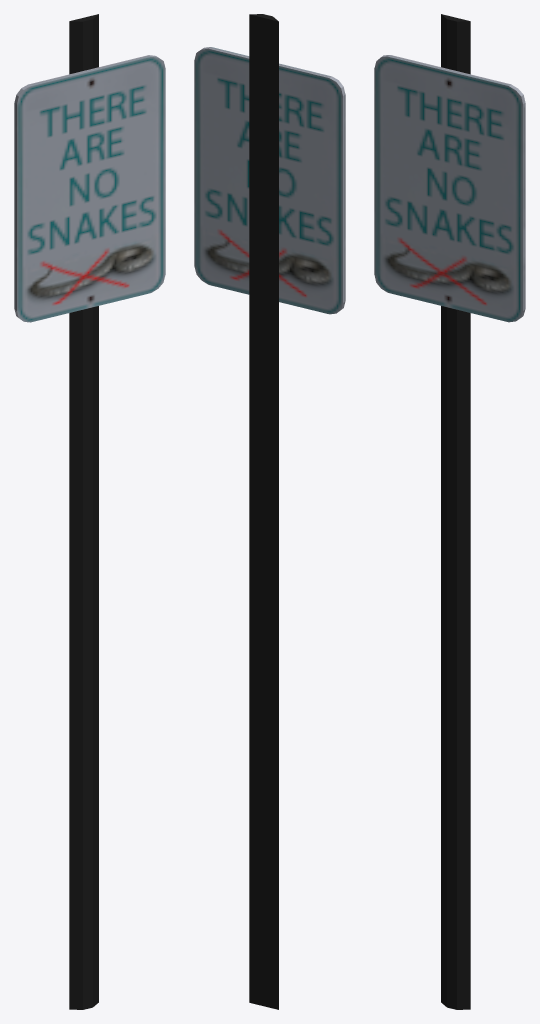
The model's file is sign_no_snakes.fbx.
The picture shows the model from 3 angles, left to right: view 1: azimuth 30°, elevation 25°; view 2: azimuth 150°, elevation 25°; view 3: azimuth 330°, elevation 25°; orthographic projection.
Parts seen in each view (by area): view 1: sign_reserved_parking, signpost_silver; view 2: signpost_silver, sign_reserved_parking; view 3: sign_reserved_parking, signpost_silver.
Boxes of the visible parts, x1,y1,x2,y2 form: sign_reserved_parking: (14, 55, 165, 322); signpost_silver: (69, 14, 98, 1009); signpost_silver: (249, 14, 278, 1009); sign_reserved_parking: (194, 47, 345, 314); sign_reserved_parking: (374, 55, 525, 322); signpost_silver: (441, 14, 470, 1009).
Bounding box in the file's own units: 28.77 × 183 × 2.36.
2 materials, 1 textured.
